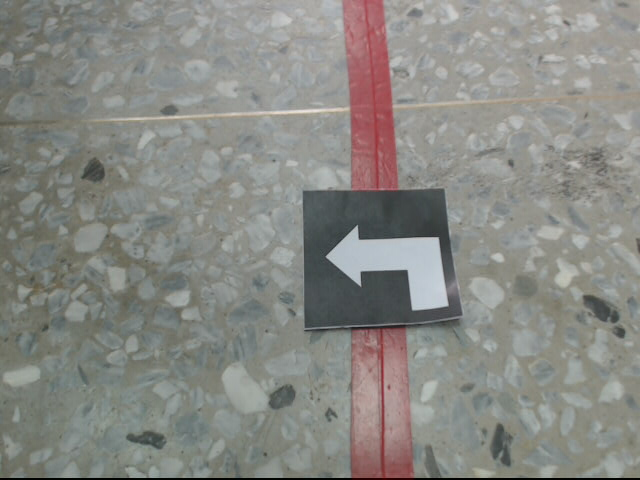left: (302, 185, 465, 331)
